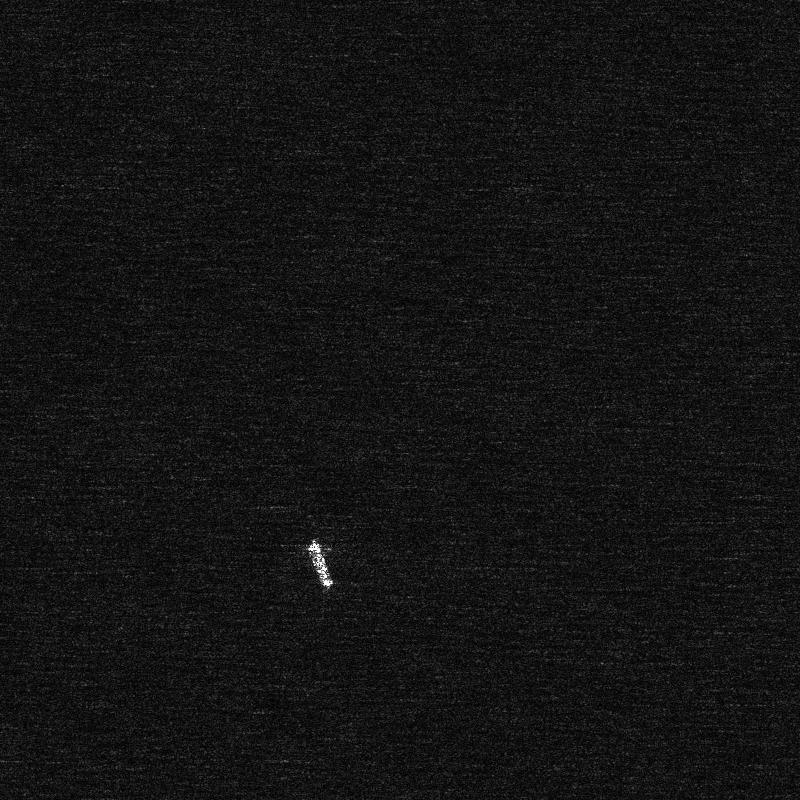ship: (307, 539, 333, 588)
